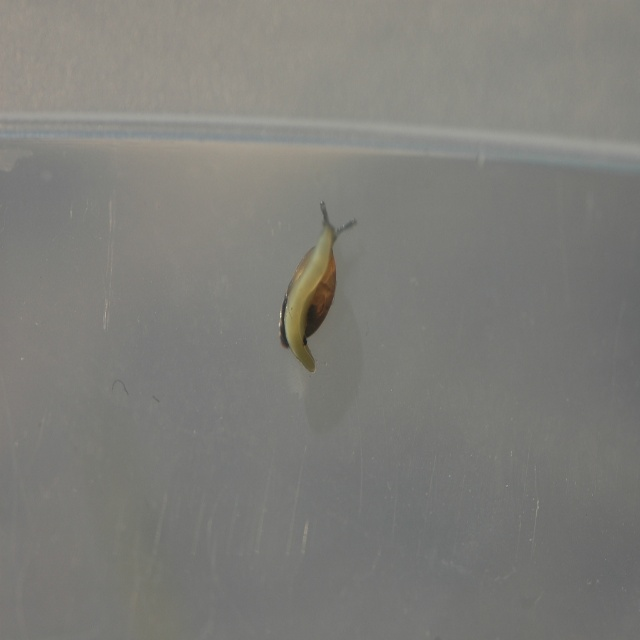Snail: (279, 200, 358, 374)
